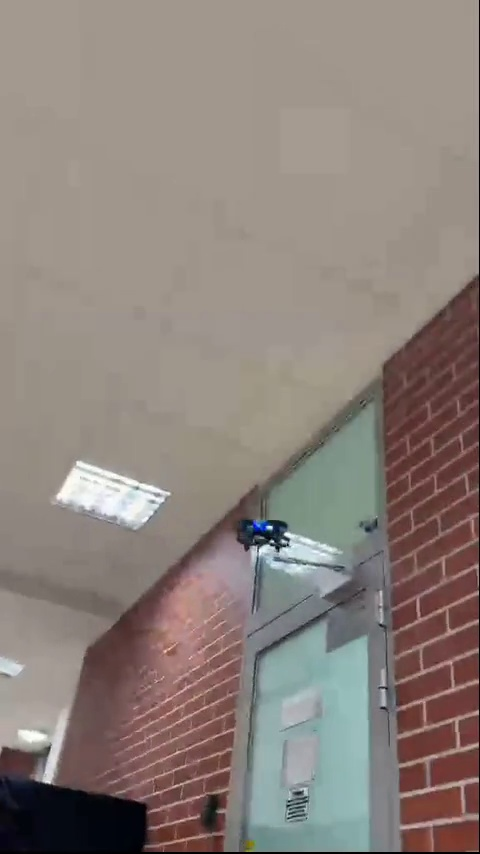drone: (239, 520, 288, 554)
